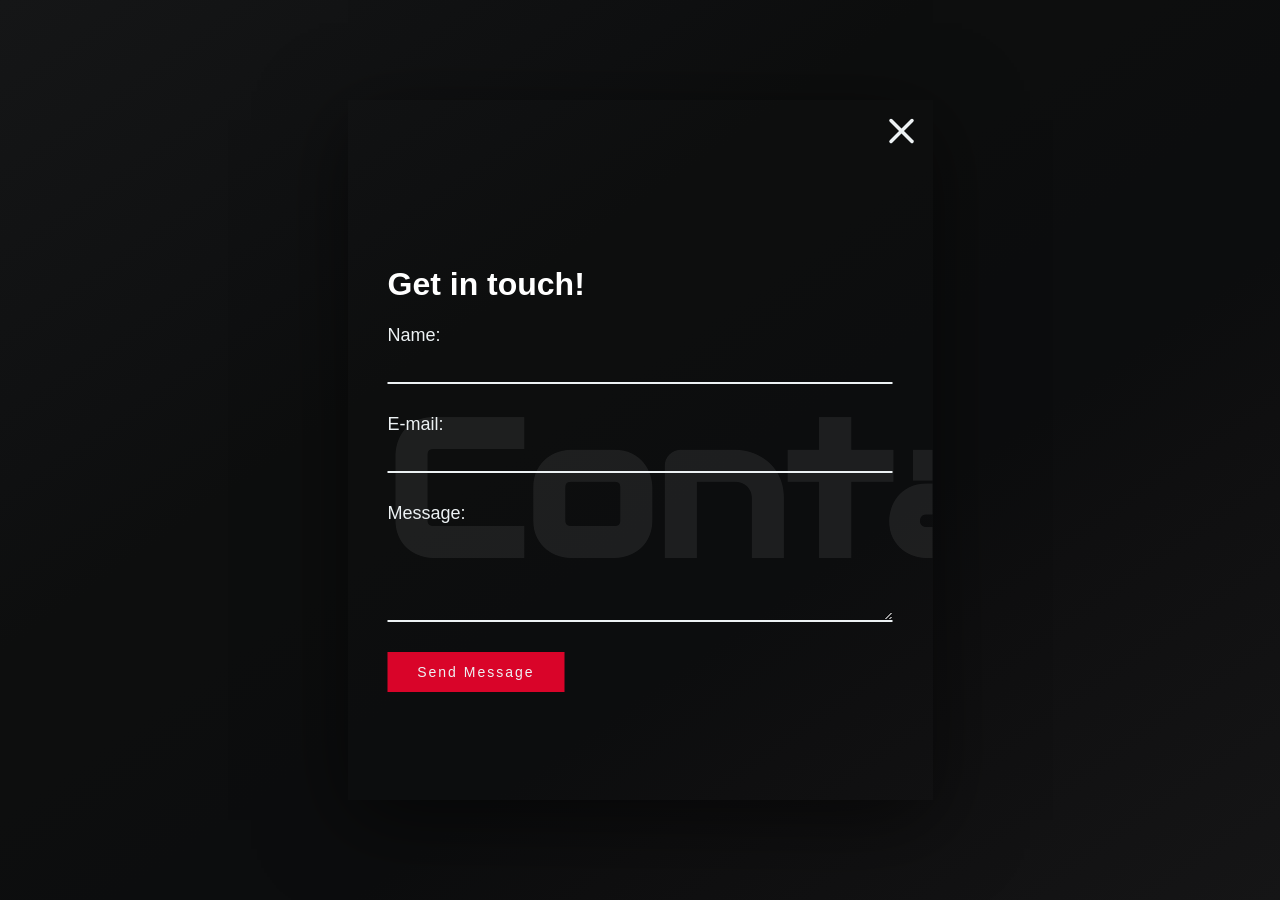
Test: ContactForm › validates email format and minimum message length
In the field labelled "Name:": (640, 367) [388,351,892,384], type "Ada Lovelace"
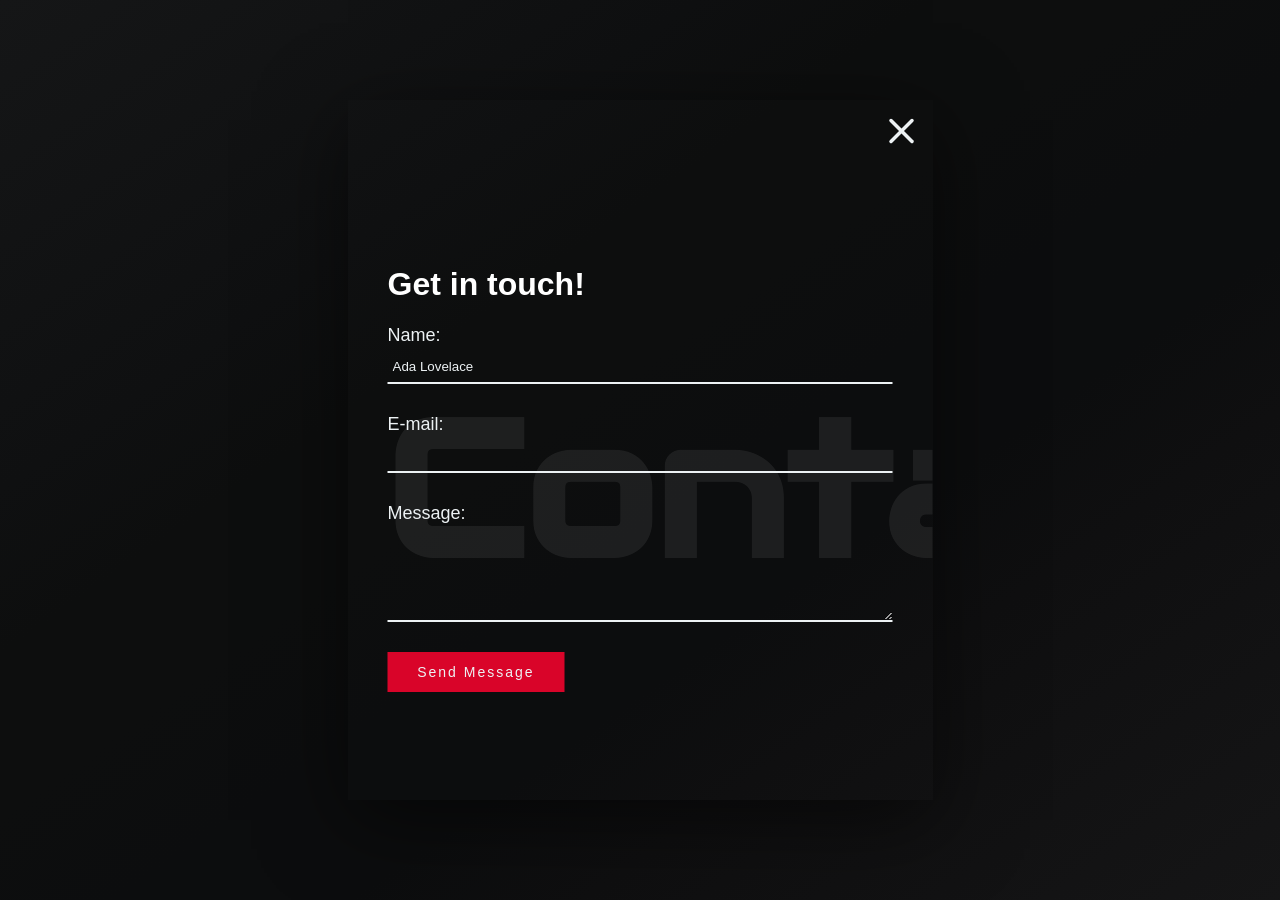
In the field labelled "E-mail:": (640, 456) [388,440,892,473], type "not-an-email"
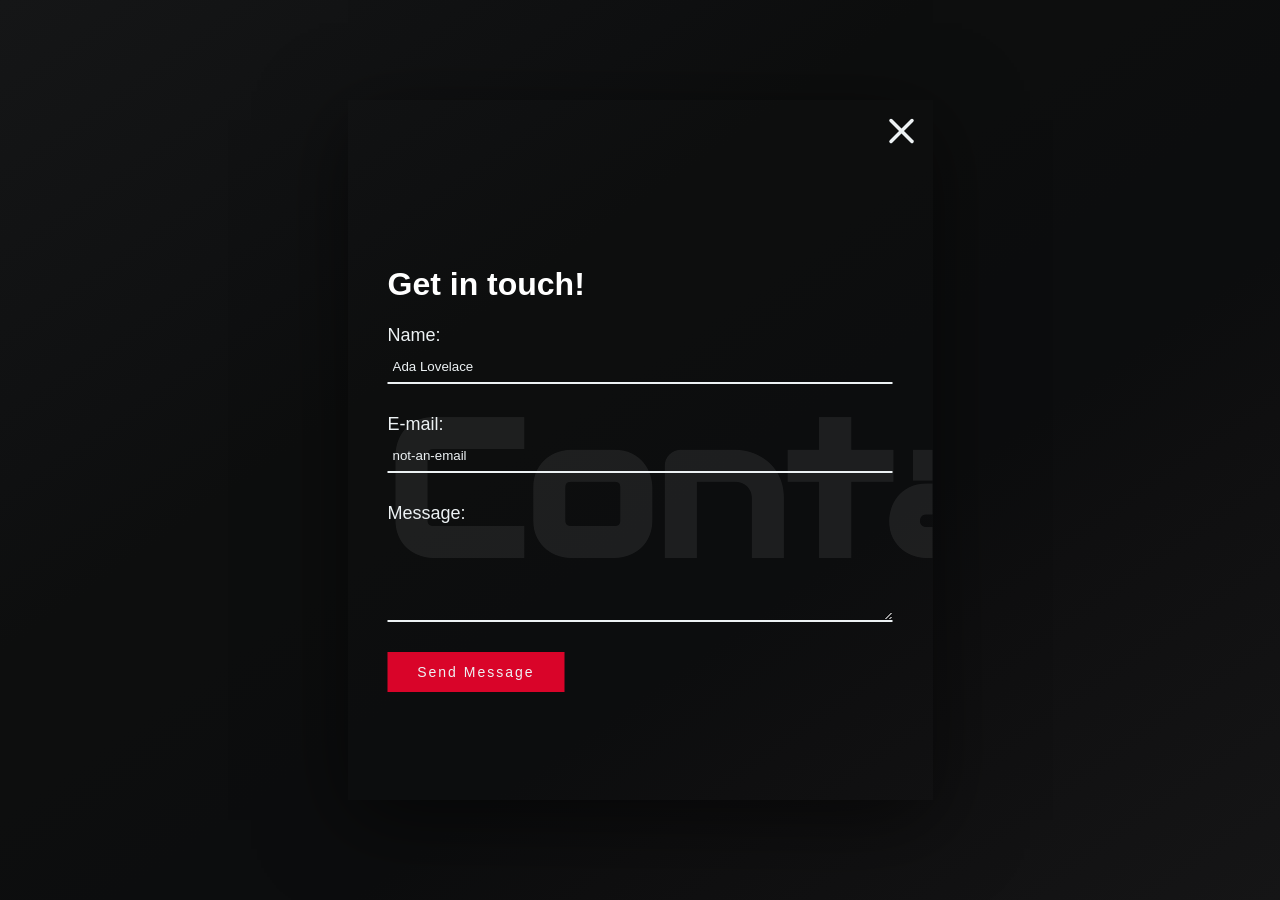
In the text box labelled "Message:": (640, 575) [388,529,892,622], type "Hi"
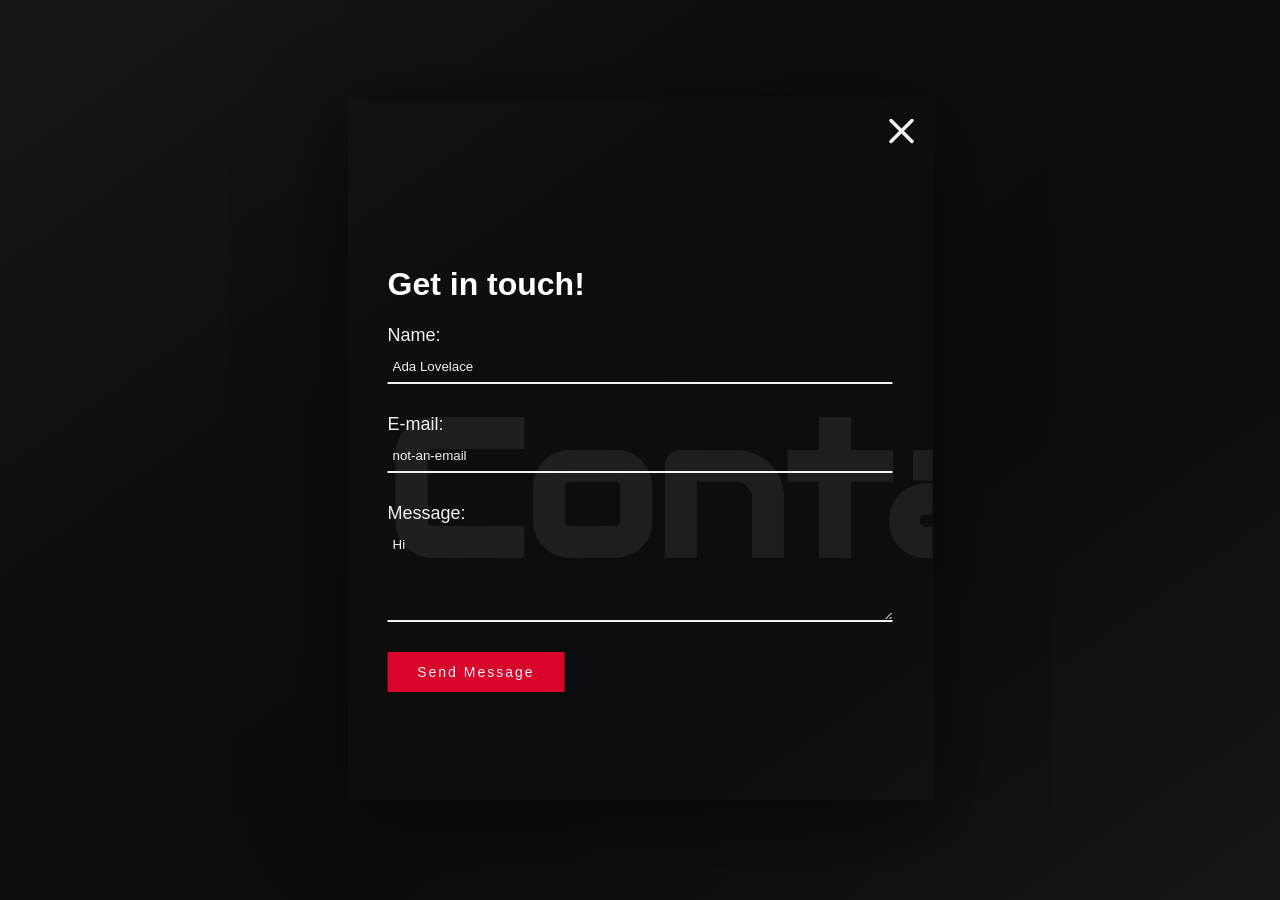
Click the button "Send Message": (476, 672) [388,652,564,692]
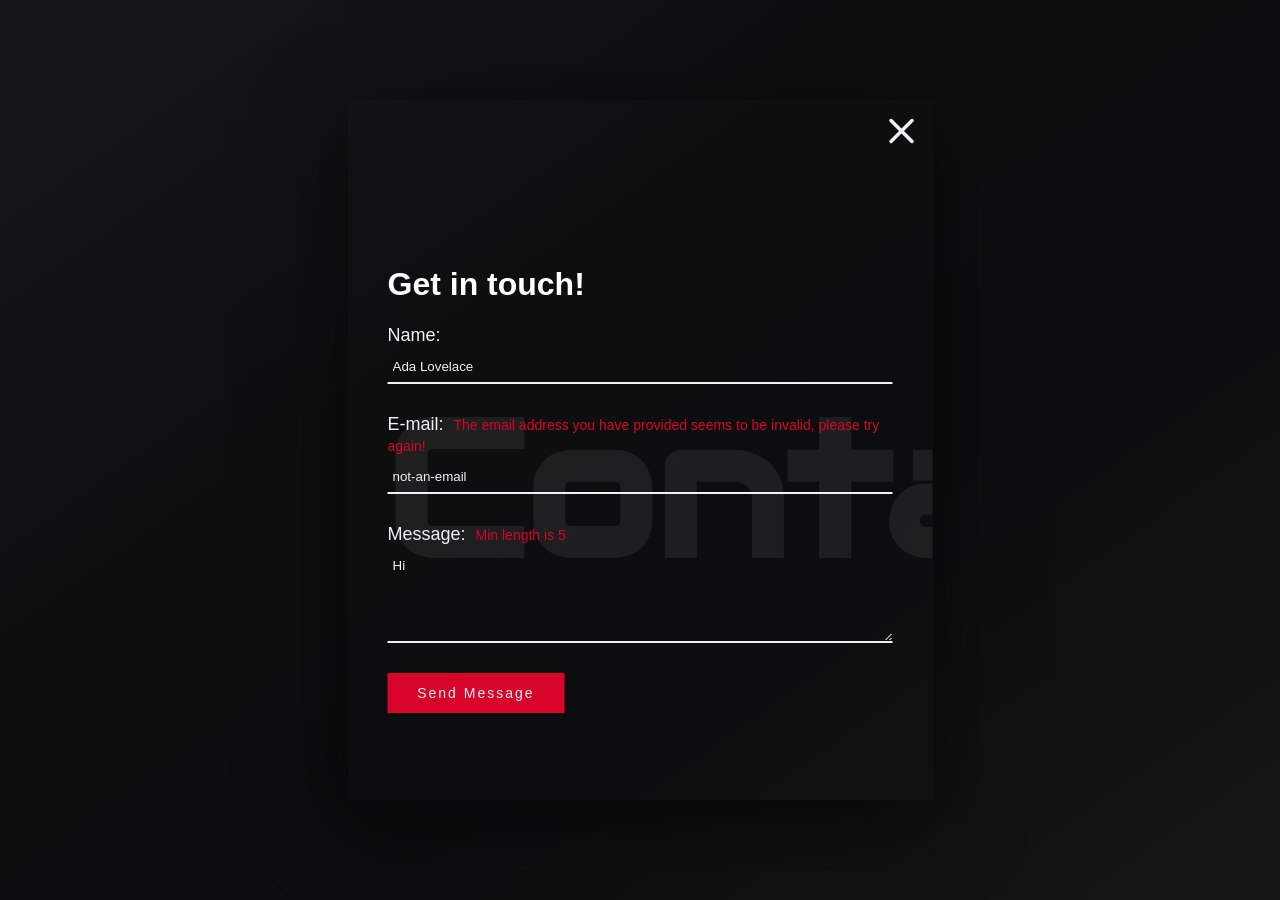
expect the text "The email address you have provided seems to be invalid, please try again!" is shown: met, box [388,417,879,454]
expect the text "Min length is 5" is shown: met, box [476,527,566,543]
